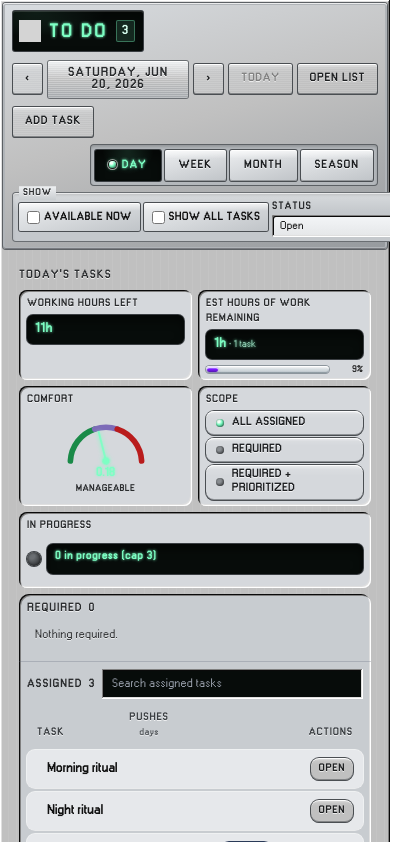
Test: TodoPanel › hides days left on the day lens and names the remaining-work estimate
This screenshot has width=402, height=842.
Expected: the text "Days left" is not shown
Expected: the text "Est hours of work remaining" is shown, [206,298,311,322]
Press the mouse on the tab "Week": (195, 165) [165,150,226,180]
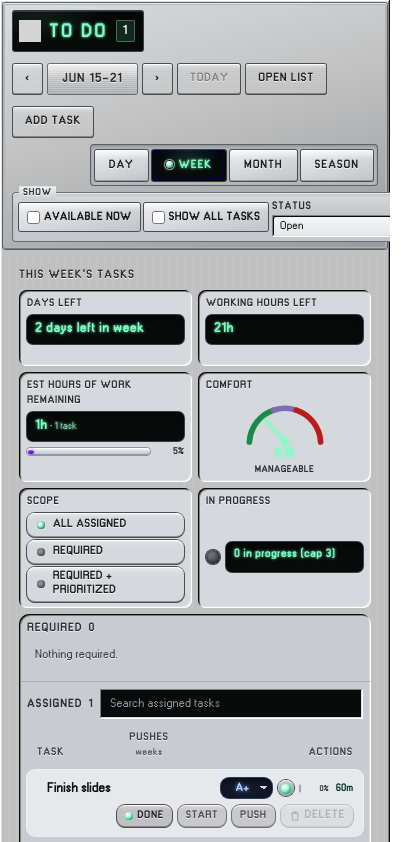
Expected: the text "Est hours of work remaining" is shown, [27,380,132,404]
Now the text "Days left" is shown, box [27,298,82,308]
